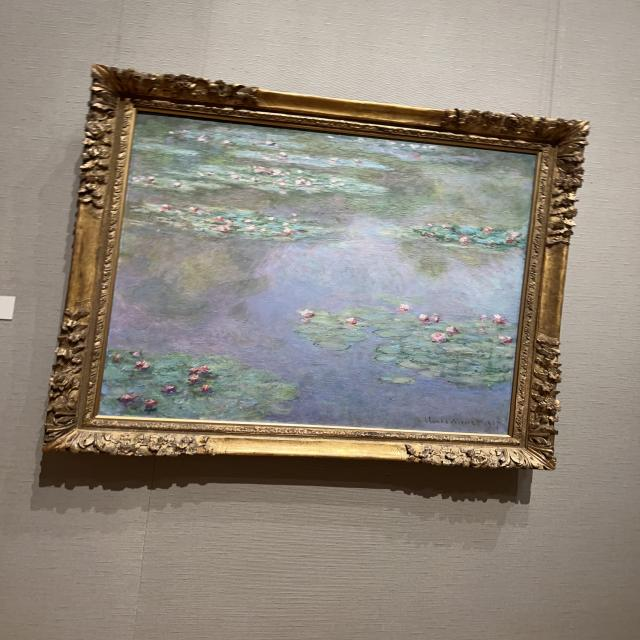lilies: (97, 112, 538, 435)
